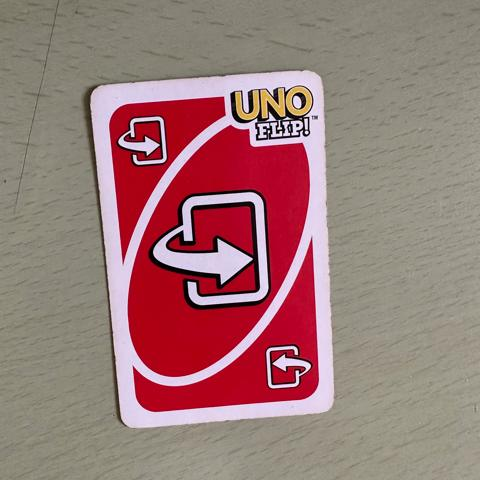3_red: (148, 190, 272, 306), (116, 114, 169, 167), (265, 343, 313, 391)
